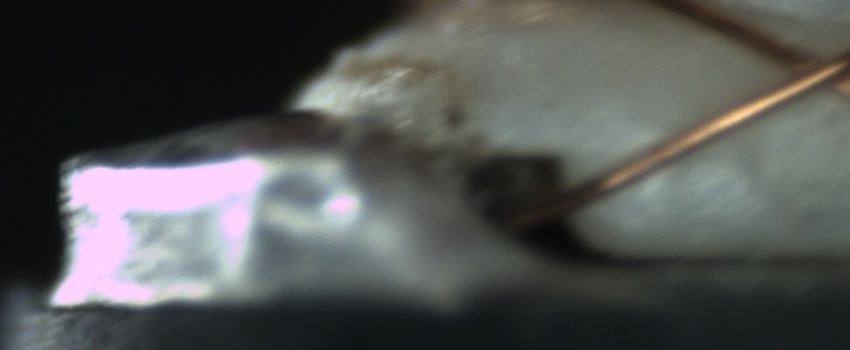CL: (758, 34, 849, 106)
